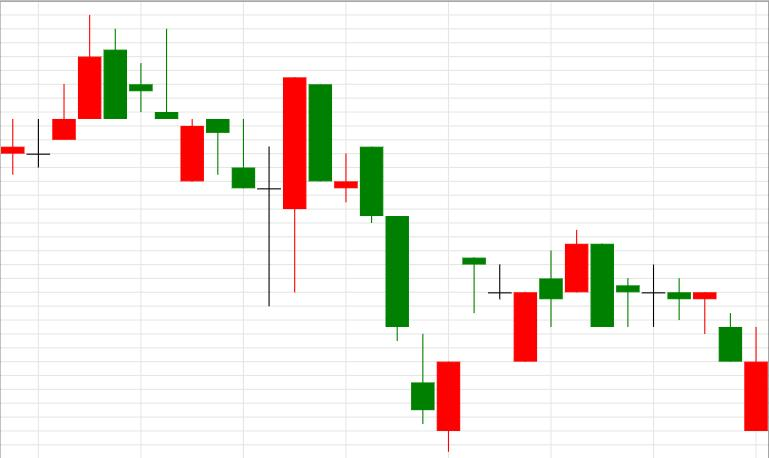inverse_hammer_rise: (309, 84, 434, 424)
